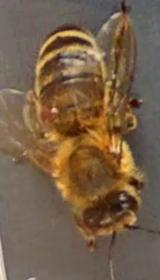varroa_mite: (42, 92, 68, 121)
